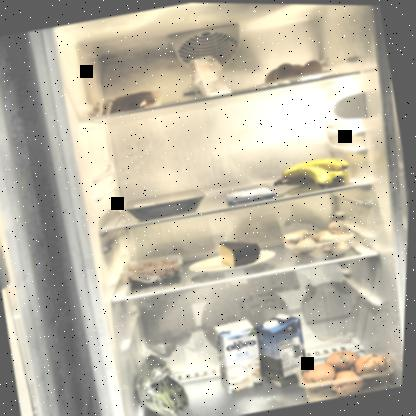banana: (269, 150, 355, 197)
cheese: (216, 229, 270, 272)
chocolate: (223, 180, 279, 207)
eggs: (260, 52, 328, 87)
green_beans: (128, 345, 197, 415)
milk: (251, 308, 317, 390), (212, 314, 271, 396)
mushrooms: (279, 215, 359, 263)
onion: (299, 338, 397, 402)
